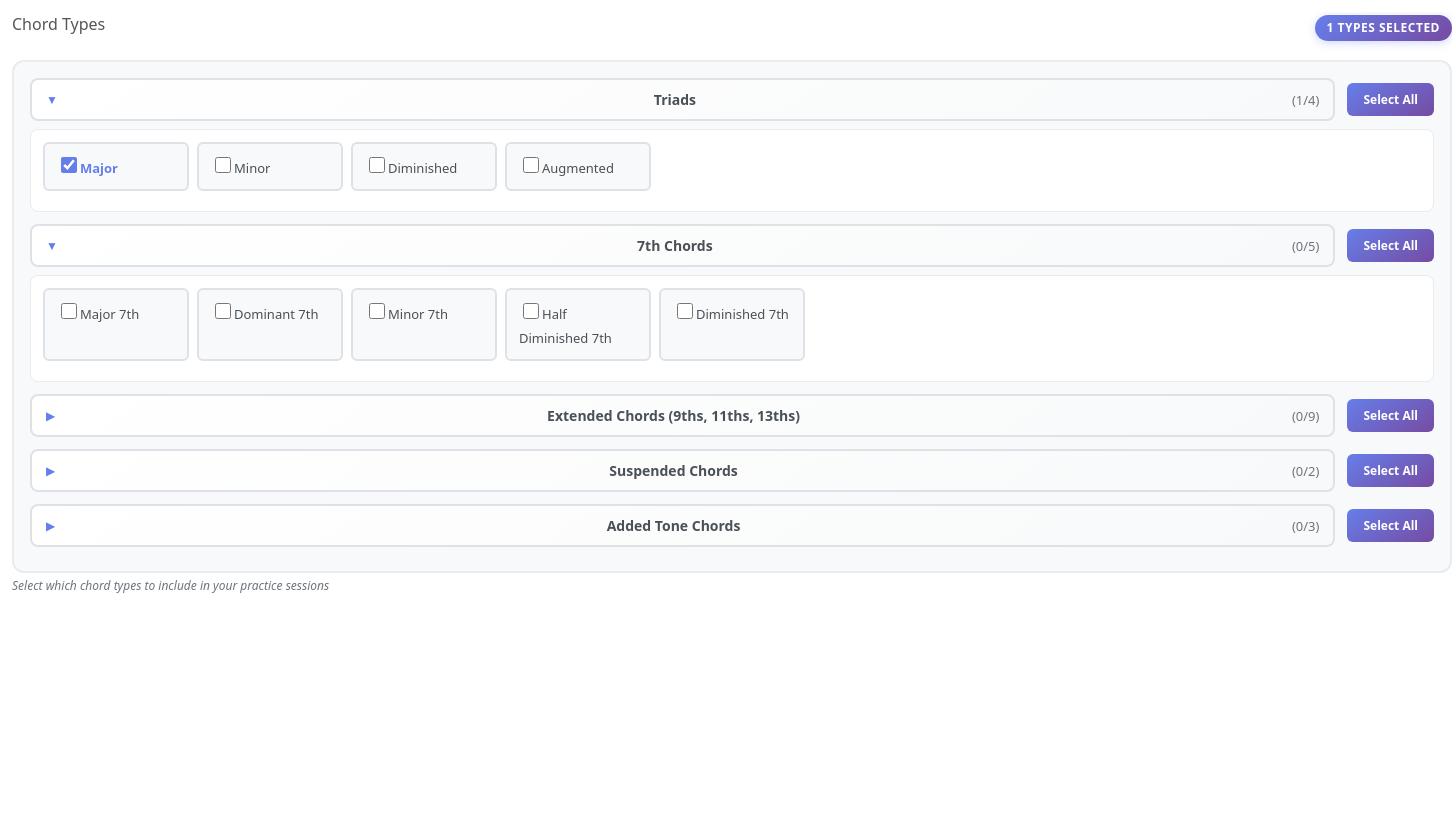
it: ChordTypeSelector › should maintain selection state when toggling categories
Expected: the checkbox labelled "Major" is checked, [61,157,77,173]
// Collapse and re-expand Triads
Click the button "▼ Triads (1/4)".
click(683, 100)  # box [30,78,1335,121]
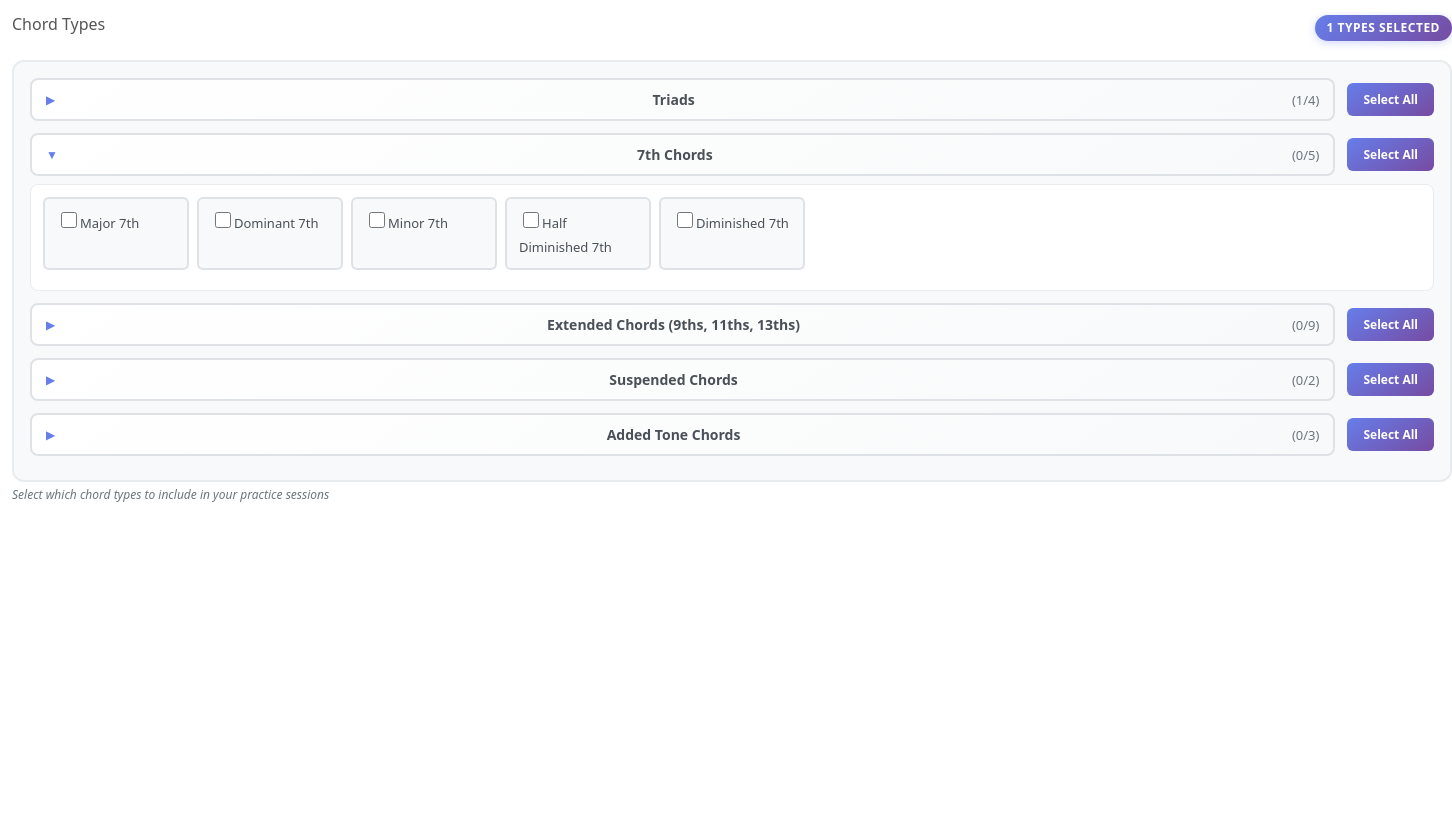
Click the button "▶ Triads (1/4)".
click(683, 100)  # box [30,78,1335,121]
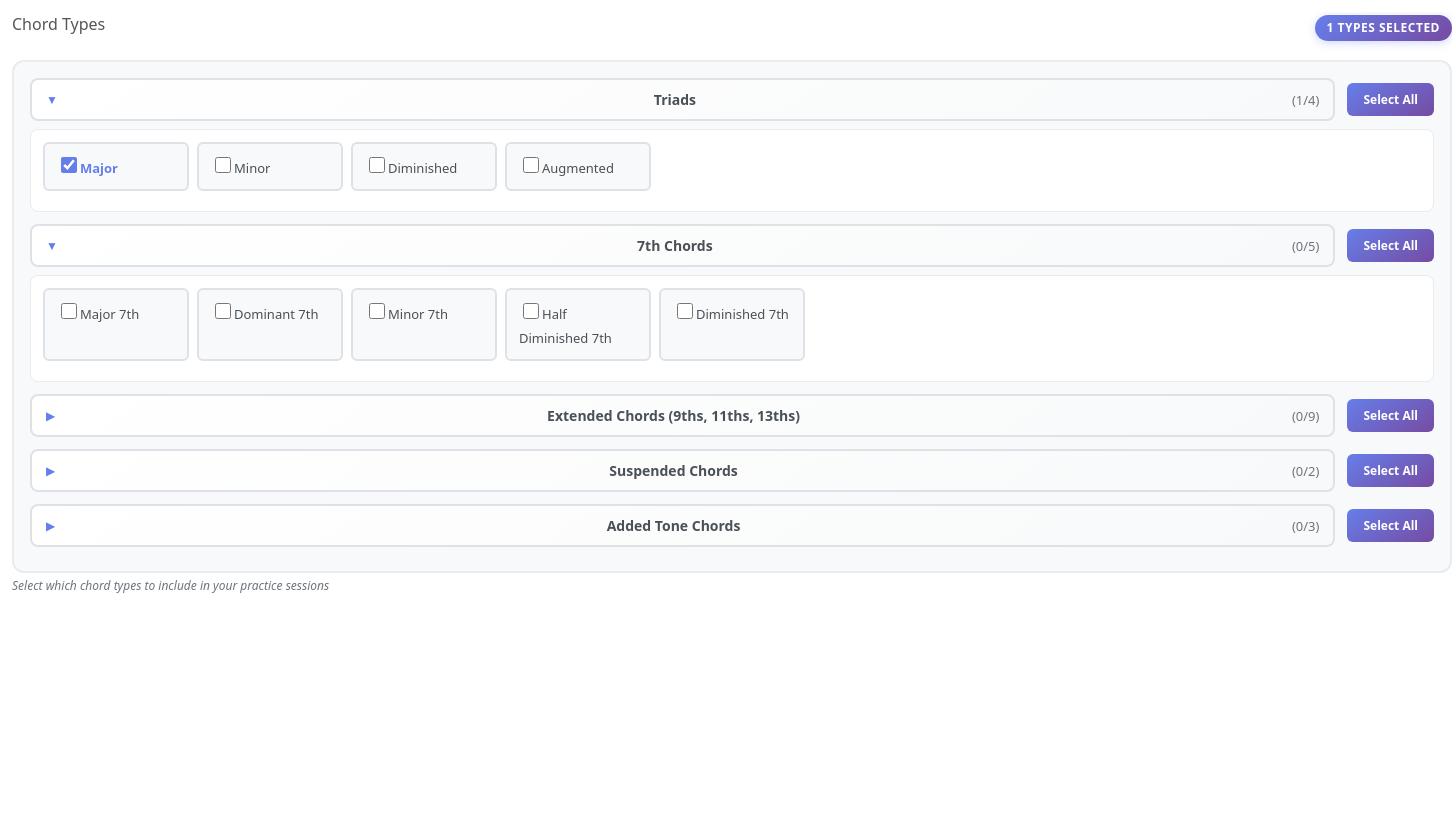
Now the checkbox labelled "Major" is checked, box [61,157,77,173]
